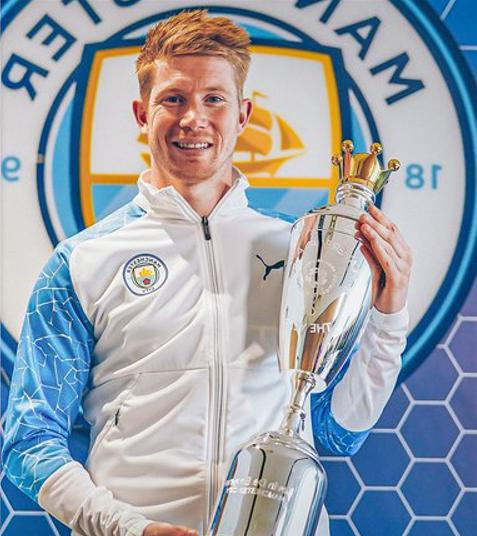Sober: (148, 58, 235, 162)
